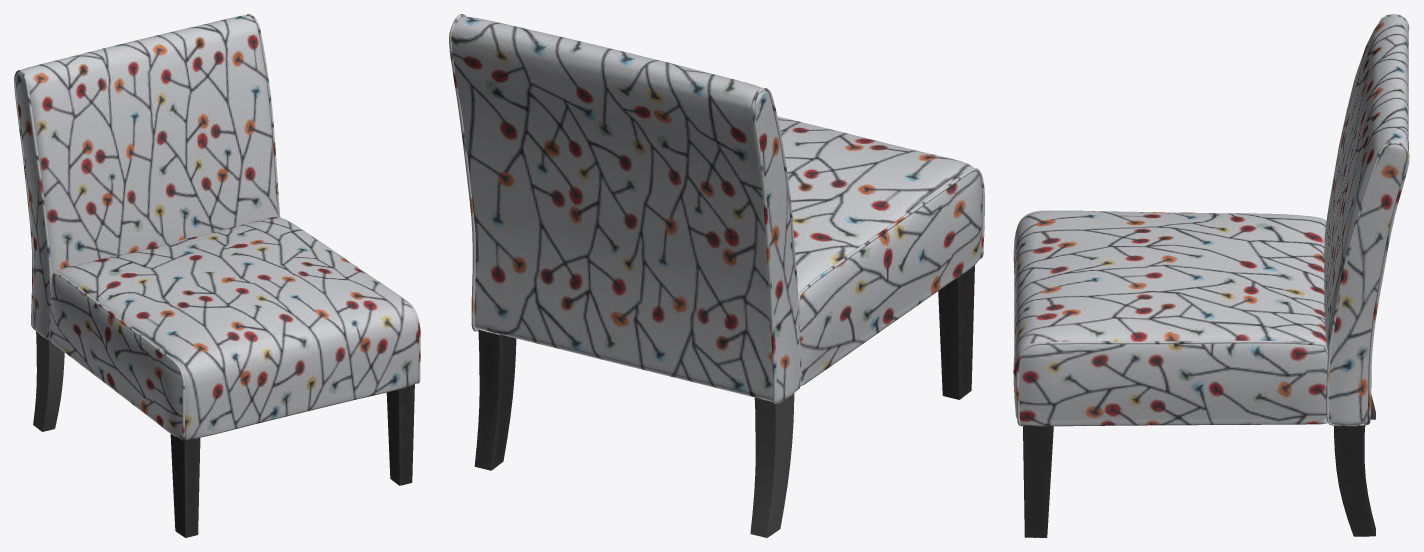
Rendered from B07D4F6ZKC.glb.
3 renders of one model, left to right at view 1: azimuth 30°, elevation 25°; view 2: azimuth 150°, elevation 25°; view 3: azimuth 270°, elevation 25°, orthographic. The views are drawn at different scales.
Parts seen in each view (by area): view 1: RootNode; view 2: RootNode; view 3: RootNode.
Boxes of the visible parts, box(x1,y1,x2,y2) form: RootNode: box(14, 14, 420, 537); RootNode: box(449, 14, 984, 537); RootNode: box(1013, 14, 1409, 537).
Size of the model in its own units: 0.5969 by 0.8128 by 0.7315.
Materials: 1 (1 with a texture image).
